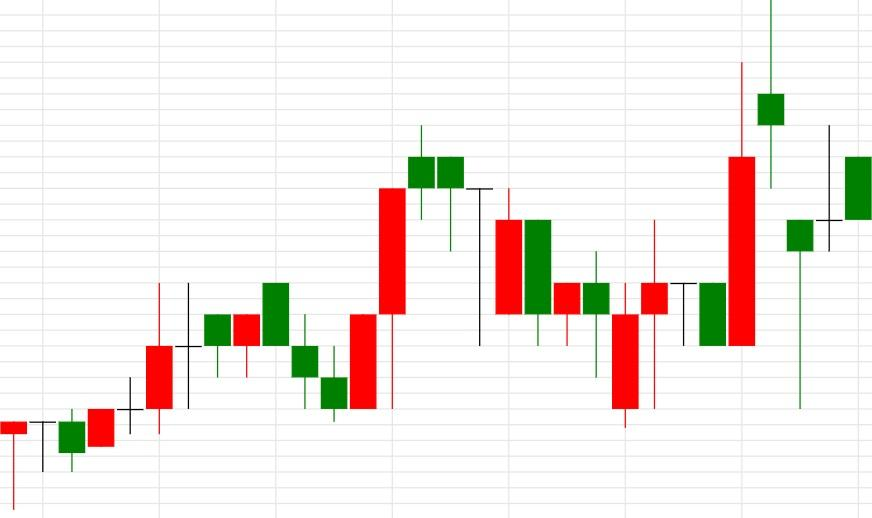hanging_man_fall: (321, 124, 465, 422)
three_black_crows_fall: (0, 282, 349, 510)
